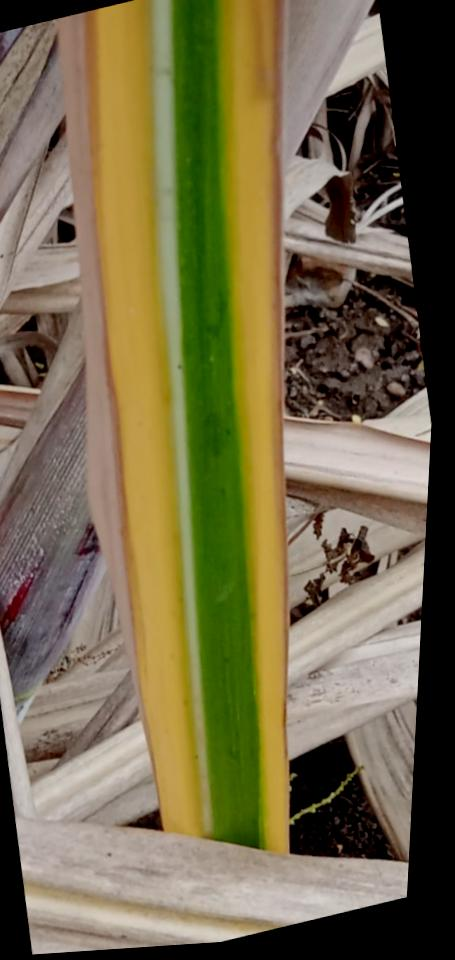Yellow: (91, 0, 202, 839), (227, 0, 288, 859)
